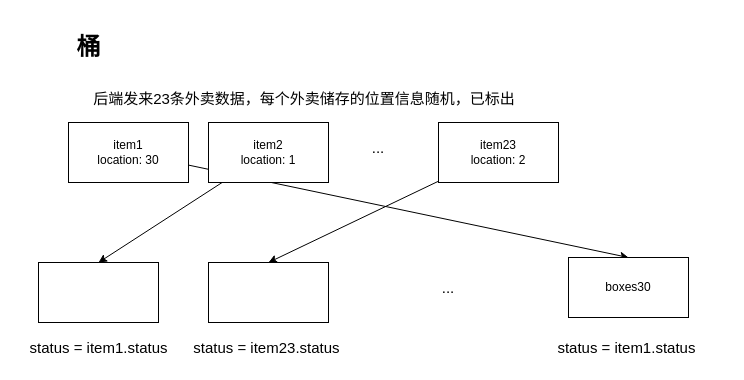
This 744x380 diagram has some shape labels left out. The shapes that lost their labels are listed below. From the top down, each one's centre as x and y in pixels, then its label:
At pixel 98 292: "boxes1".
At pixel 268 292: "boxes2".
